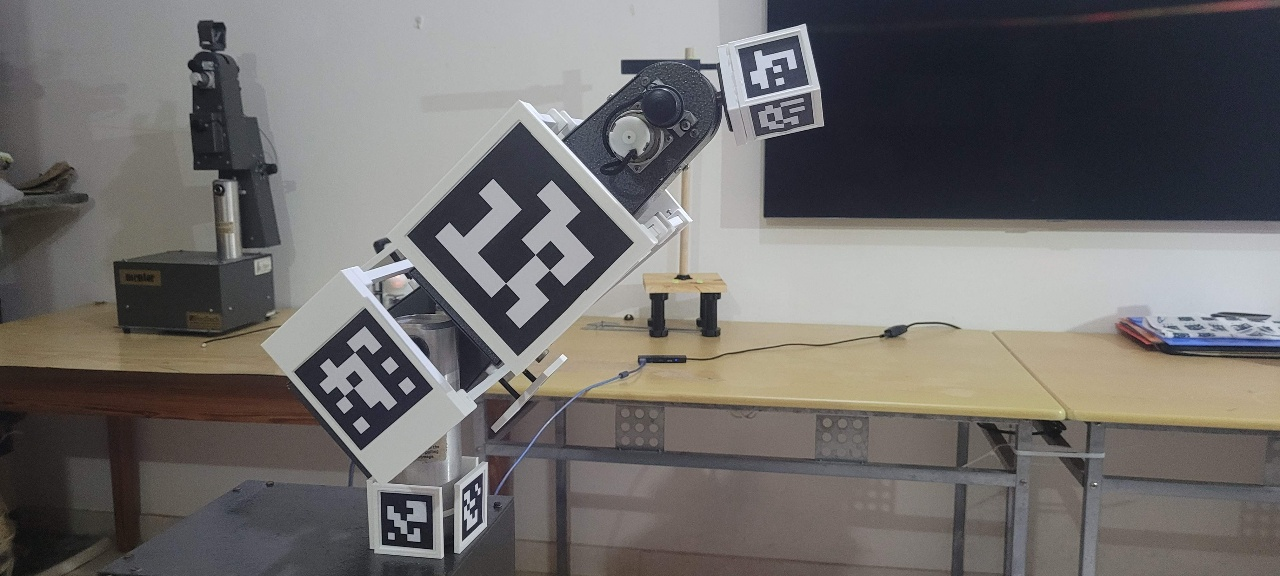Robot: (260, 22, 825, 560)
